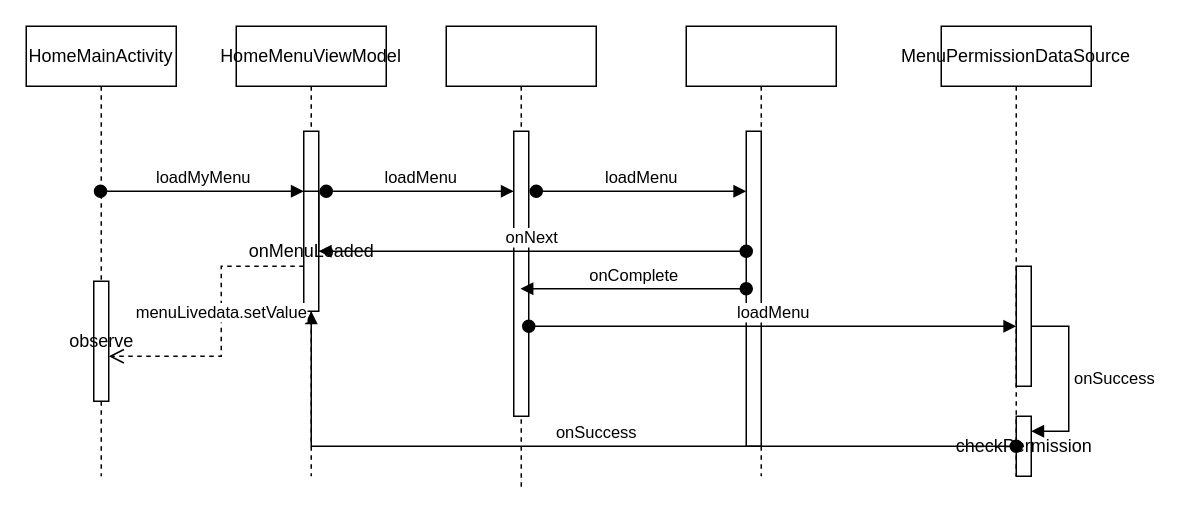
The diagram is 1182 pixels wide and 518 high, and some of its shapes have lost their labels. Here are the shapes that lost their labels. From the top down, the centre of each, then its label:
pixel 520 258: HomeMenuRepository
pixel 760 250: LocalMenuDataSource
